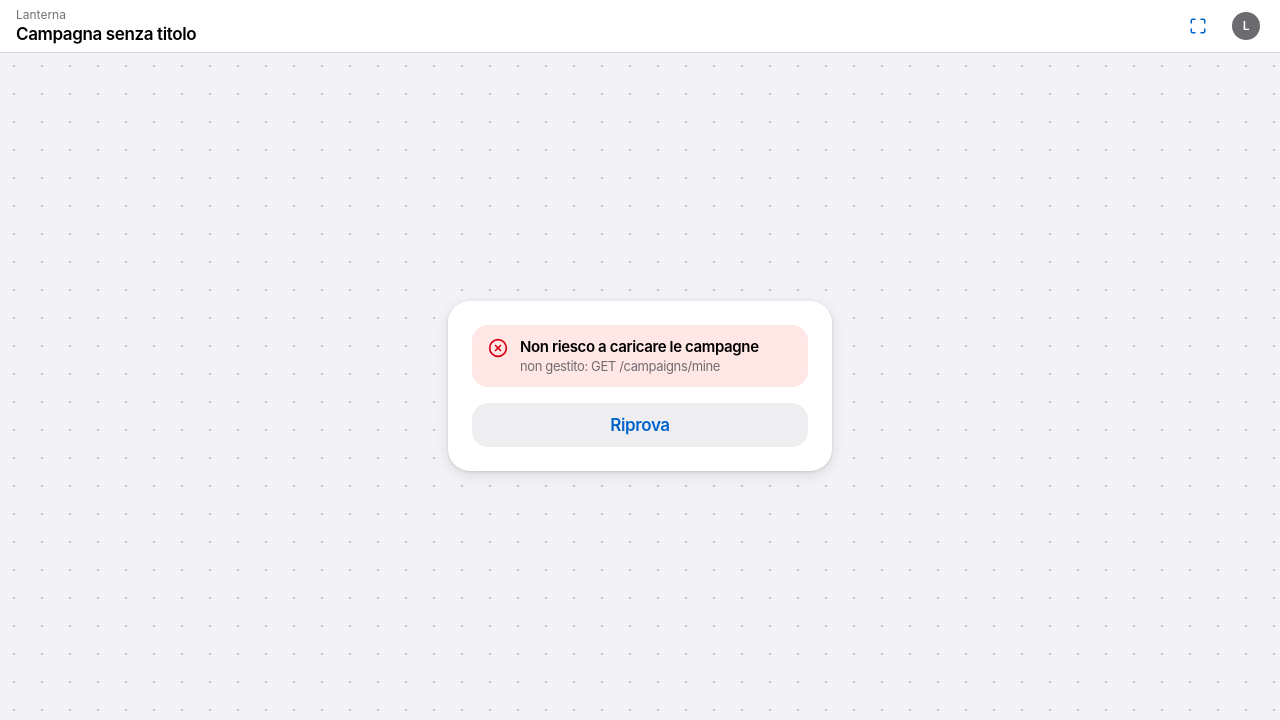
Test: sessione e logout › con sessione attiva apre il tavolo e il logout torna al login
Expected: the heading "Campagna senza titolo" is shown, top-left (16, 23), bottom-right (196, 45)
What coordinates should you click on to do the following:
click the button named "Menu utente, Luca"
I would click on:
 (1246, 26)
Its box is top-left (1224, 4), bottom-right (1268, 48).
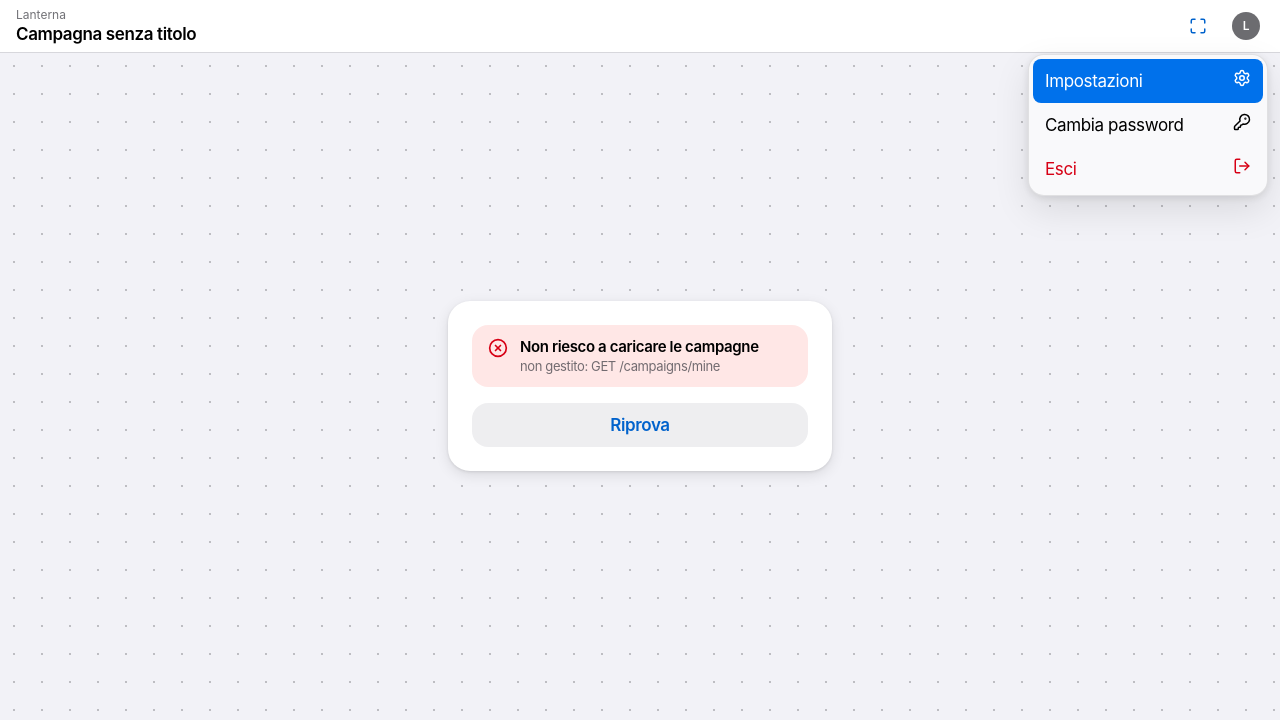
What coordinates should you click on to do the following:
click the menu item "Esci"
I would click on:
 (1148, 169)
Its box is top-left (1033, 147), bottom-right (1263, 191).
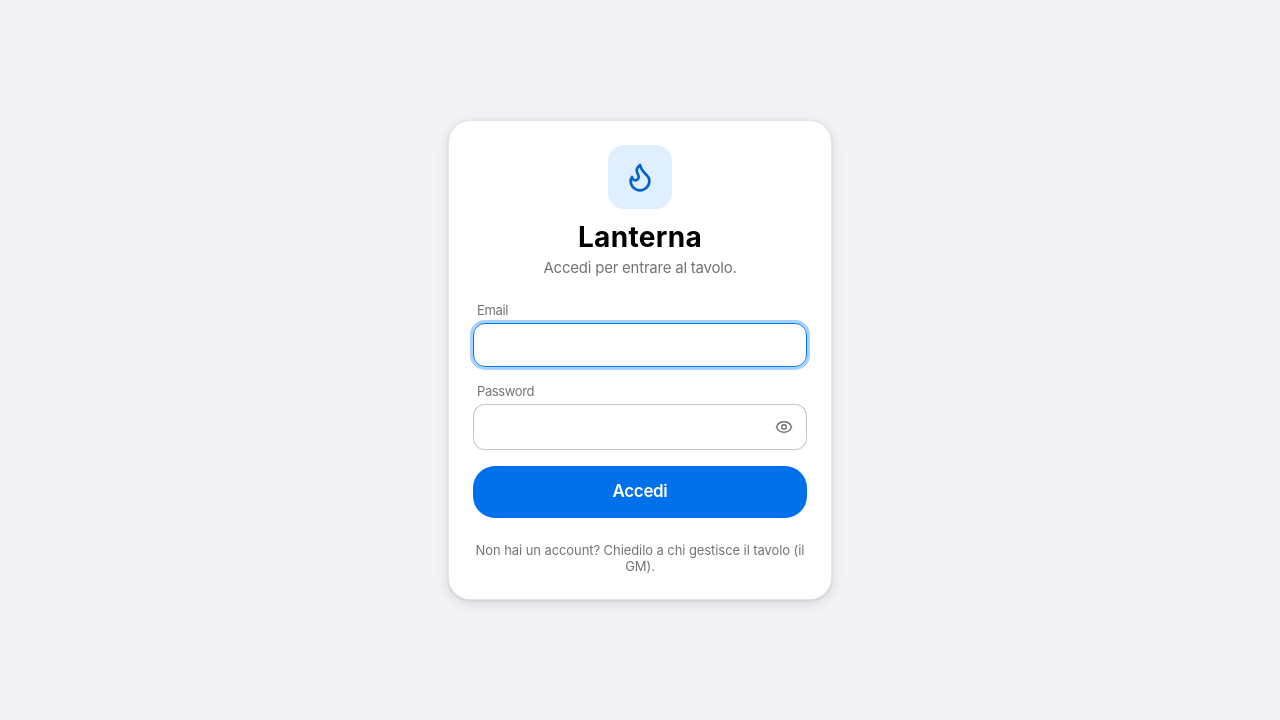
Result: the button "Accedi" is shown at top-left (473, 466), bottom-right (807, 518)
